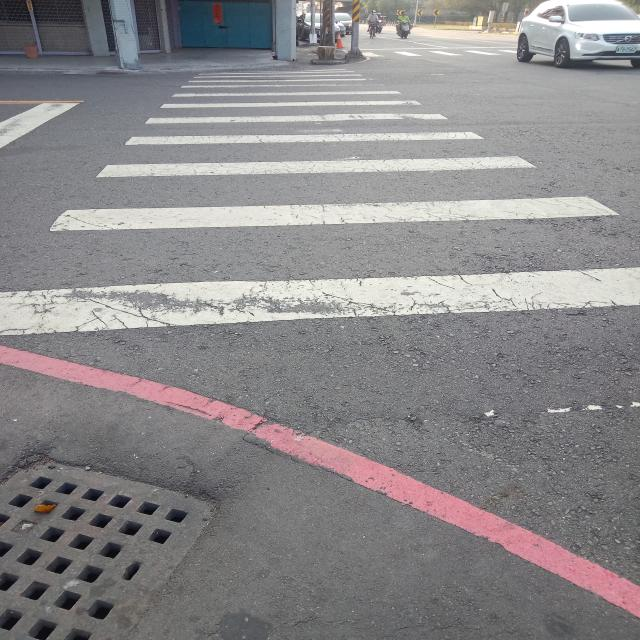zebra crossing: (0, 71, 640, 338), (364, 49, 517, 58)
